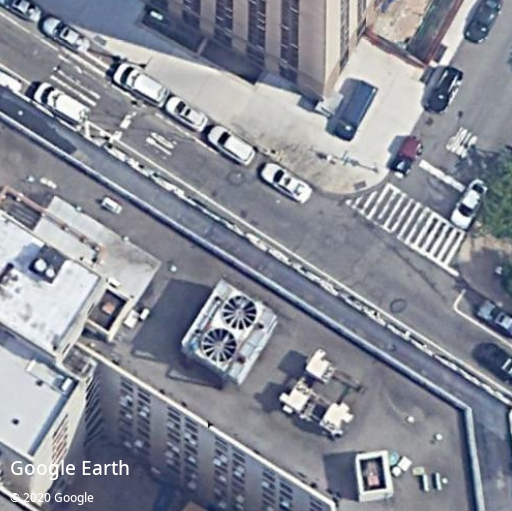Vent: (222, 295, 257, 330), (202, 328, 237, 363)
